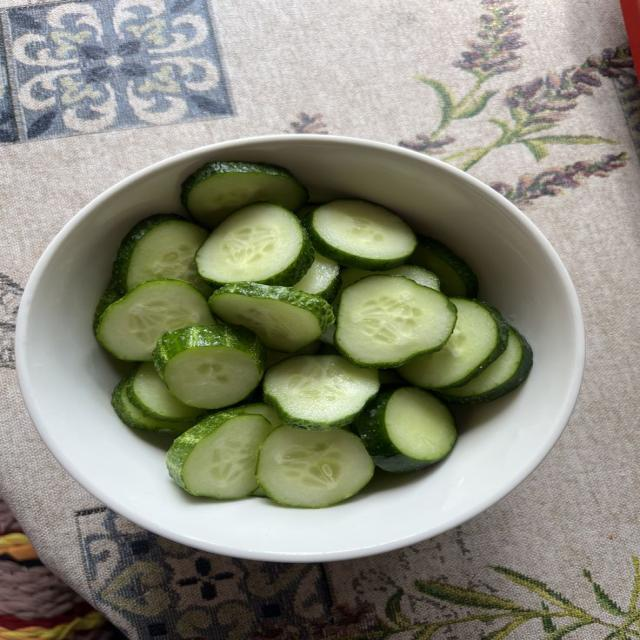cucumber sliced: (334, 275, 456, 367), (399, 298, 507, 388), (96, 280, 215, 361), (196, 203, 313, 285), (257, 426, 374, 507), (167, 411, 273, 499), (154, 326, 265, 409), (354, 387, 457, 472), (263, 355, 379, 429), (209, 283, 333, 352), (181, 162, 307, 228), (304, 199, 416, 270), (114, 214, 211, 295), (439, 327, 533, 404), (112, 378, 194, 435), (127, 362, 202, 423), (408, 235, 478, 298), (341, 265, 439, 290), (293, 252, 340, 302), (94, 280, 121, 332), (226, 402, 282, 427), (266, 350, 292, 369)
